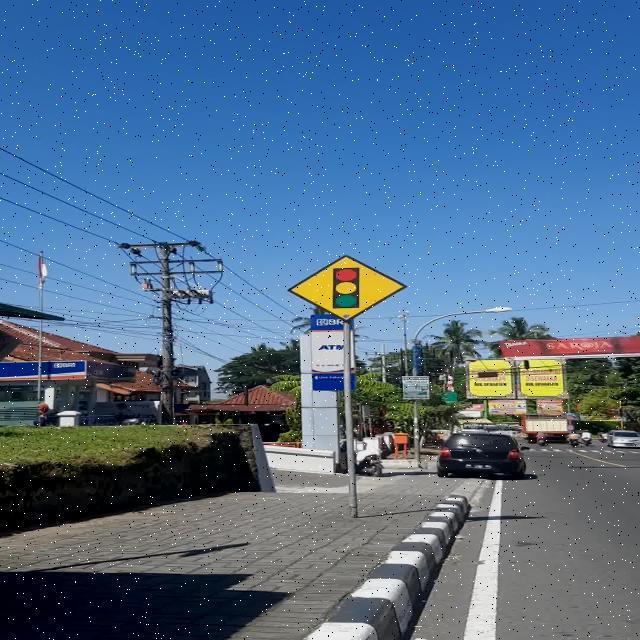Lampu Lalu Lintas: (287, 254, 408, 322)
